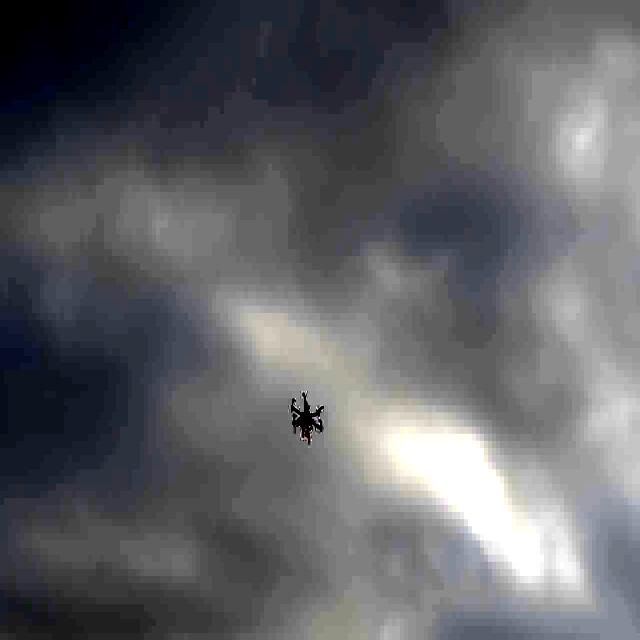drone: (287, 390, 327, 443)
